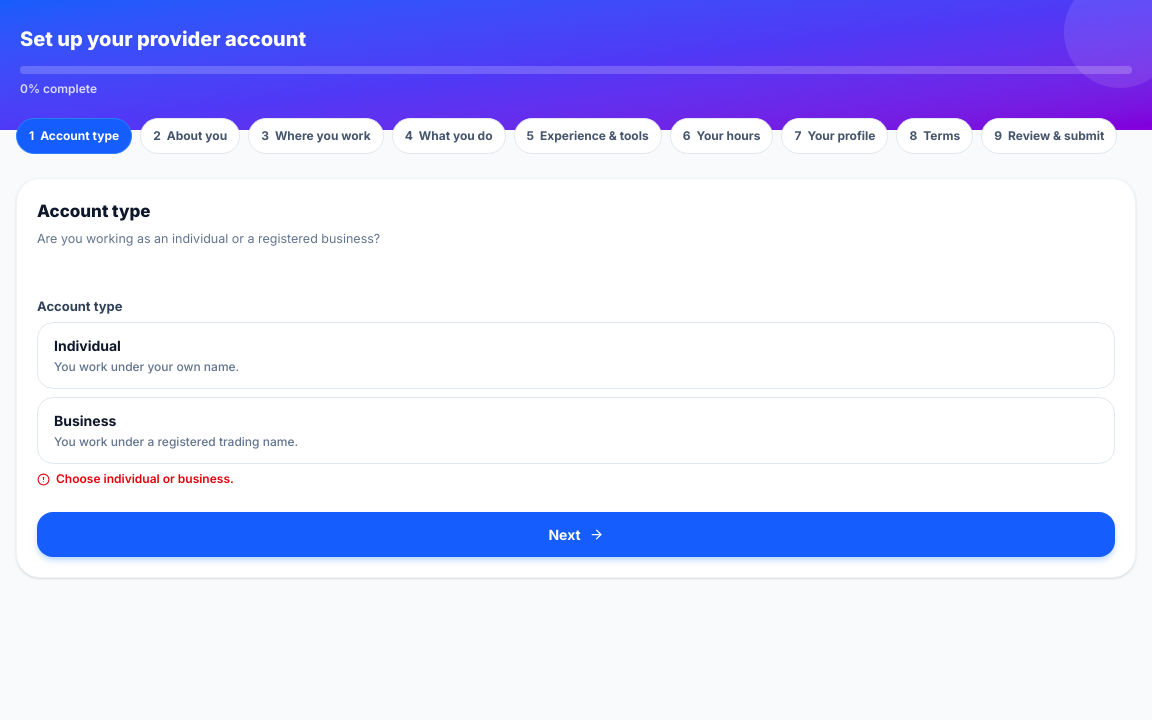
autosave › shows Saved after a successful write
This screenshot has width=1152, height=720.
Expected: the heading "Account type" is shown, [37,201,151,221]
Click the radio button labelled "Individual You work under your own name.".
click(87, 346)  # box [37,322,1115,389]
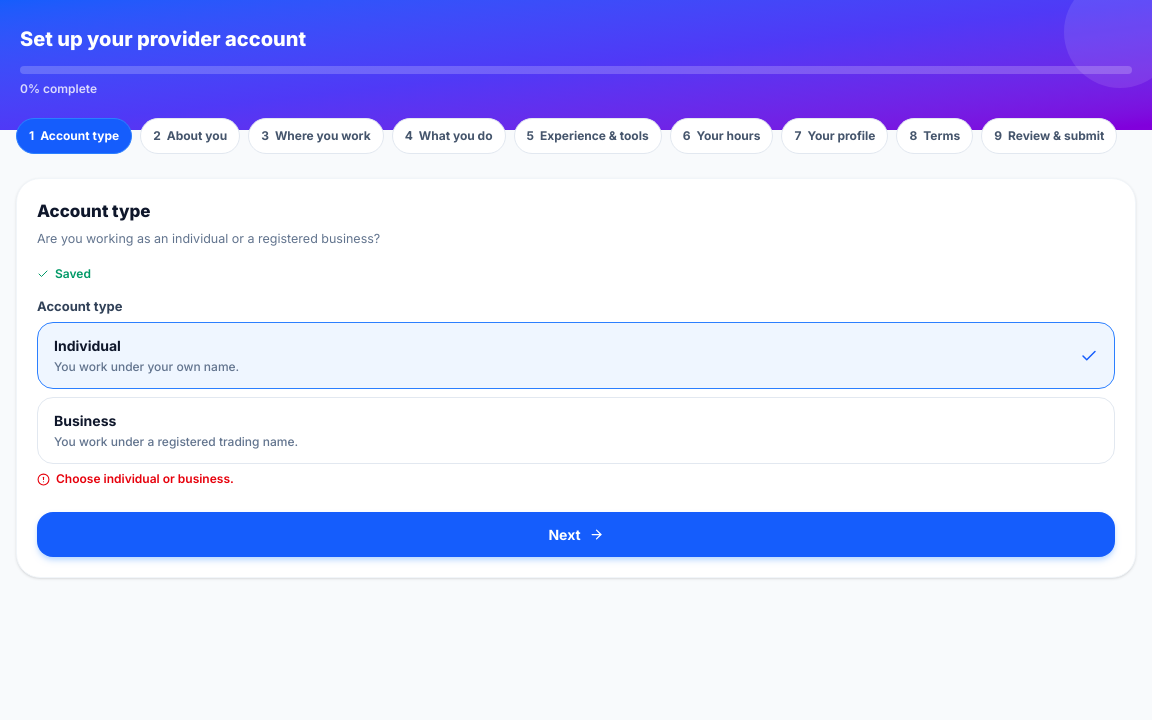
Result: the text "Saved" is shown at [37,266,91,280]
